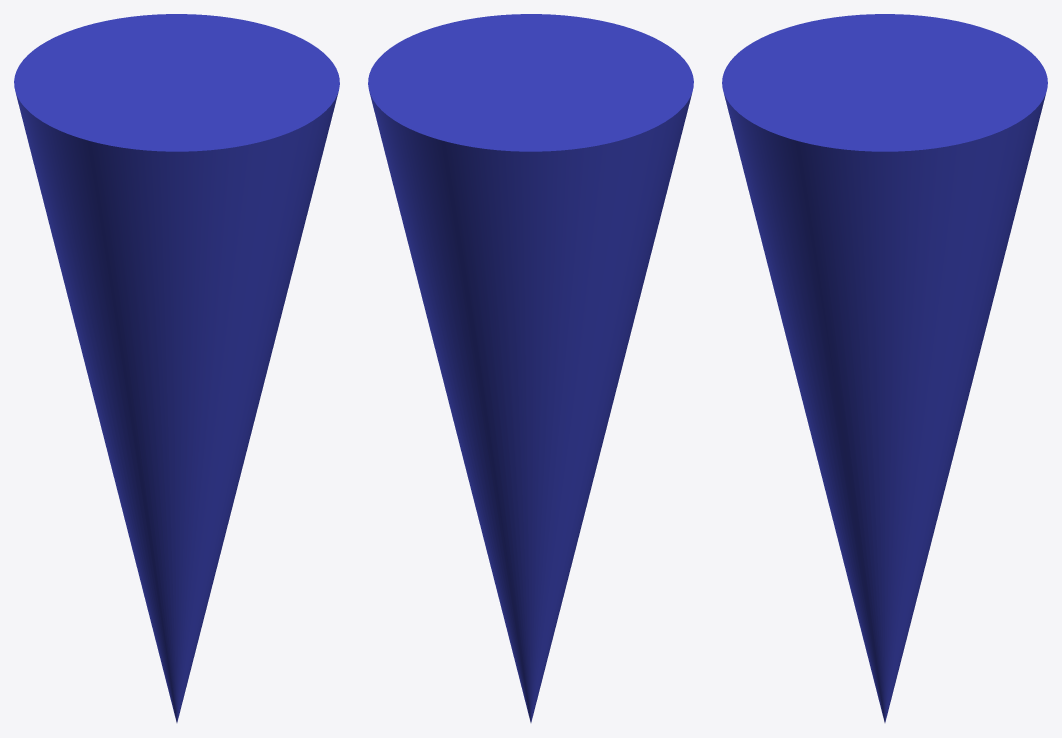
The model's file is Arrow.fbx.
3 views of the same model, side by side, from view 1: azimuth 30°, elevation 25°; view 2: azimuth 150°, elevation 25°; view 3: azimuth 270°, elevation 25° (orthographic).
Visible parts, largest first — view 1: root; view 2: root; view 3: root.
Part boxes in pixels (left/top/right/bottom): root: left=14, top=14, right=339, bottom=722; root: left=368, top=14, right=693, bottom=722; root: left=722, top=14, right=1047, bottom=722.
Size of the model in its own units: 0.4024 by 0.8734 by 0.4024.
